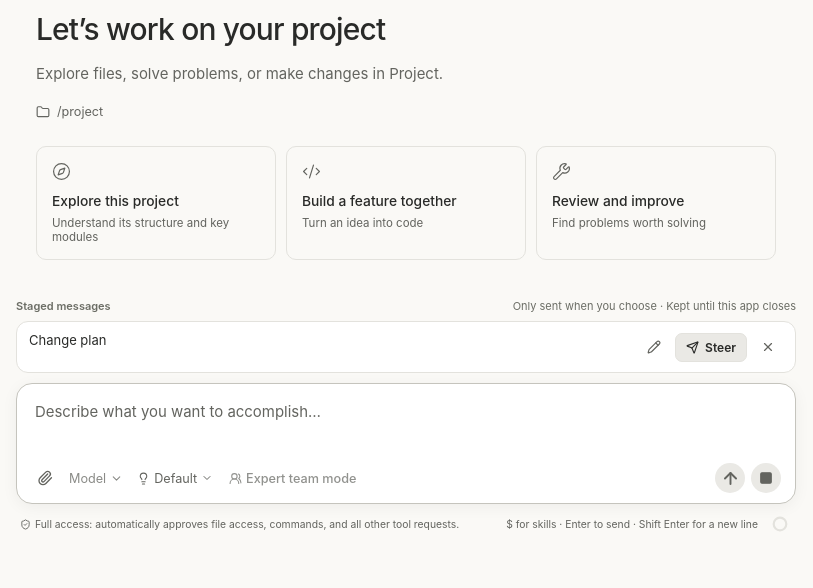
Test case: staged composer › blocks duplicate clicks and retains ambiguous failures without blind retry
Click the button with class "staged-steer".
click(711, 347)  # box x1=675 y1=333 x2=747 y2=362
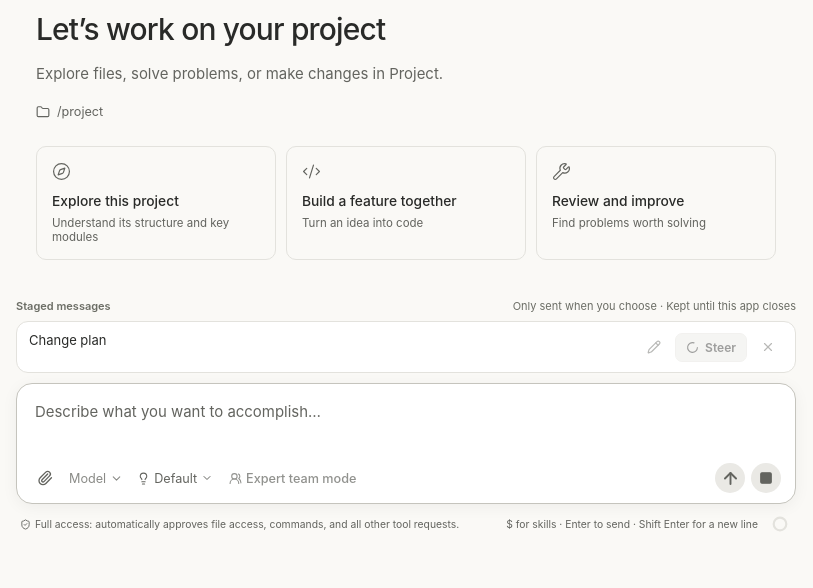
Click the button with class "staged-steer".
click(711, 347)  # box x1=675 y1=333 x2=747 y2=362
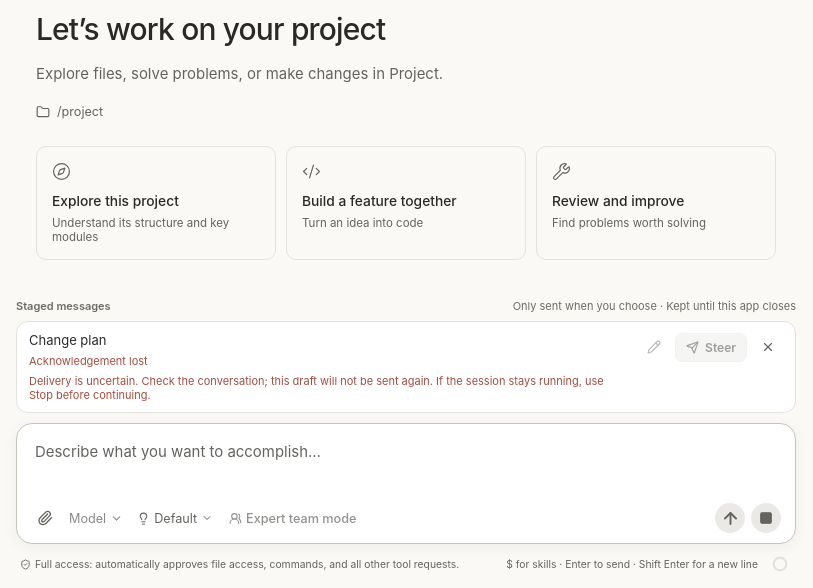
Now the button with class "staged-steer" is disabled, box x1=675 y1=333 x2=747 y2=362
Now the button named "Edit staged message" is disabled, box x1=639 y1=332 x2=669 y2=362
Now the text "Delivery is uncertain" is shown, box x1=29 y1=374 x2=604 y2=402
